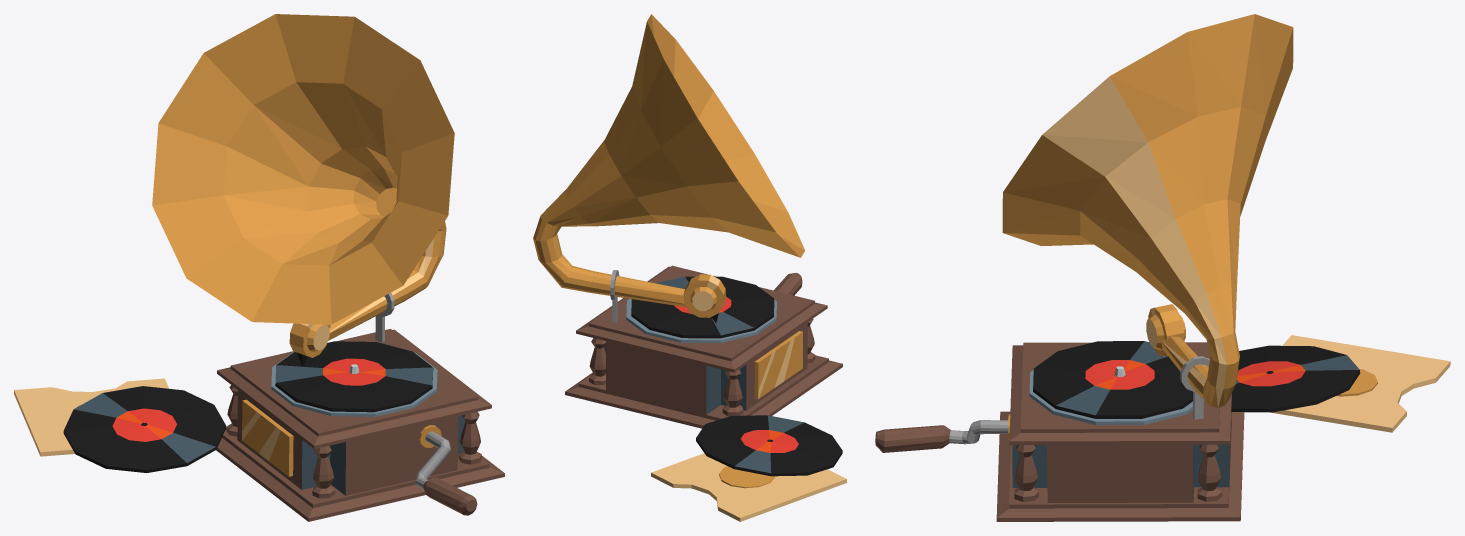
Rendered from gramophone.glb.
The picture shows the model from 3 angles, left to right: view 1: azimuth 30°, elevation 25°; view 2: azimuth 150°, elevation 25°; view 3: azimuth 270°, elevation 25°; orthographic projection. The views are drawn at different scales.
Visible parts, largest first — view 1: gramophone; view 2: gramophone; view 3: gramophone.
Boxes of the visible parts, x1,y1,x2,y2 form: gramophone: (14,14,504,521); gramophone: (533,14,846,521); gramophone: (875,14,1450,521).
Size of the model in its own units: 0.5885 by 0.62 by 0.709.
